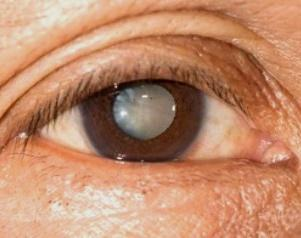eye: (83, 78, 205, 165)
